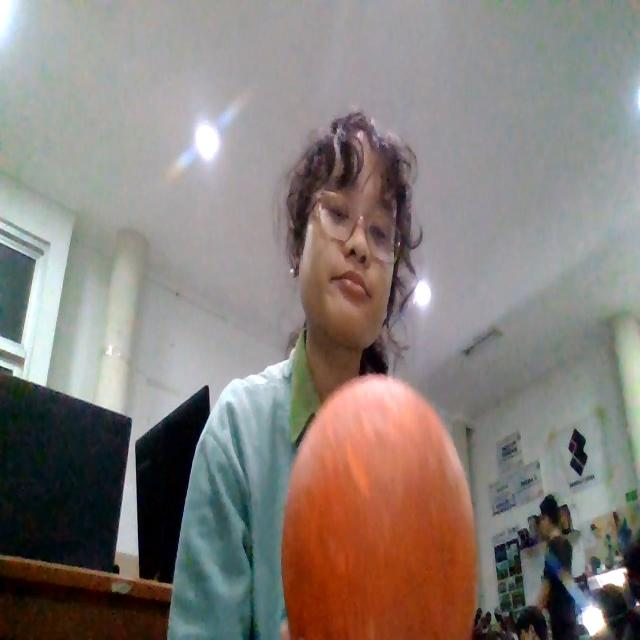ball: (280, 372, 478, 638)
